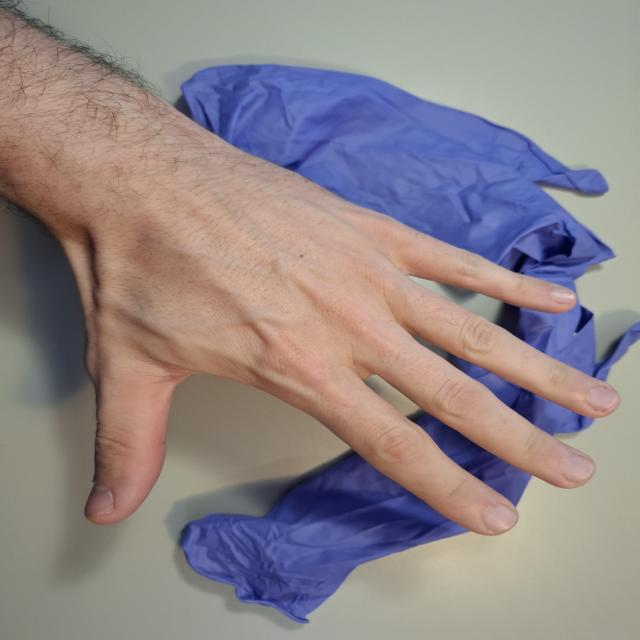glove_off: (49, 128, 625, 540)
